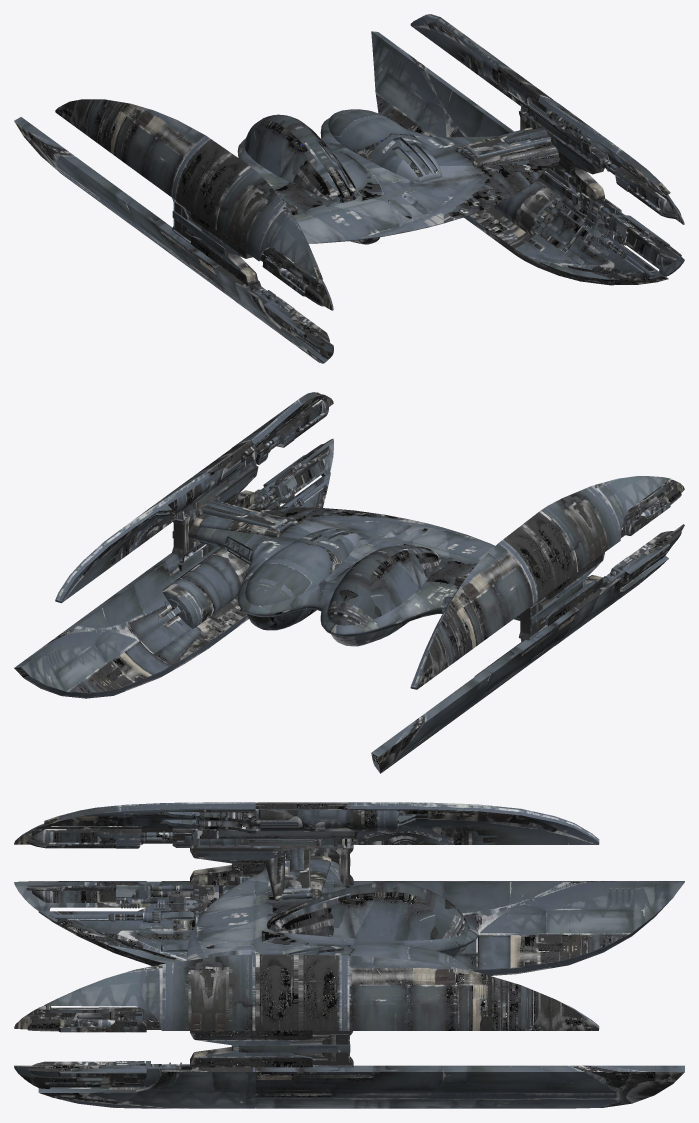
Rendered from hyena.glb.
The picture shows the model from 3 angles, top to bottom: view 1: azimuth 30°, elevation 25°; view 2: azimuth 150°, elevation 25°; view 3: azimuth 270°, elevation 25°; orthographic projection. The views are drawn at different scales.
Bounding box in the file's own units: 8.2 × 3.26 × 12.06.
2 materials, 2 textured.
